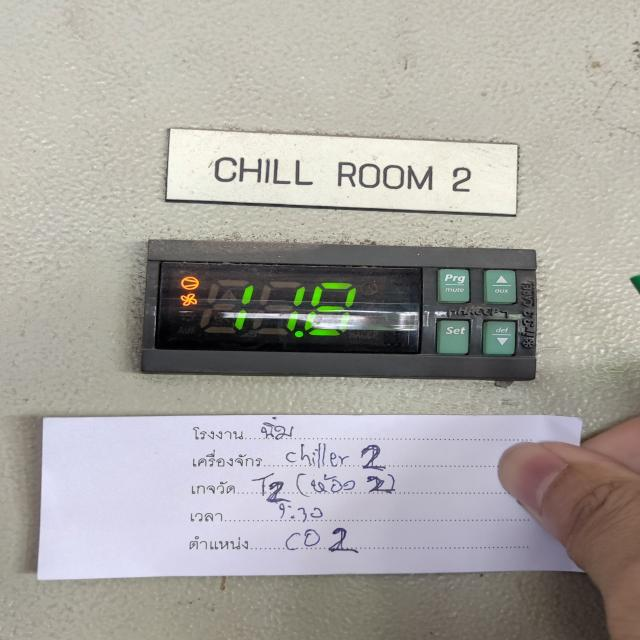display: (158, 262, 425, 355)
frame: (225, 278, 365, 342), (450, 164, 476, 194)
gauge: (138, 239, 536, 380)
